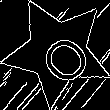O_NW: (24, 18, 90, 85)
